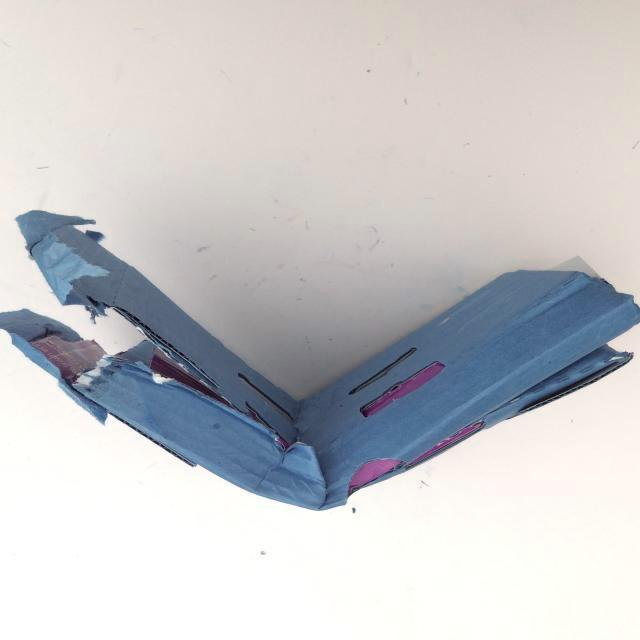cardboard: (0, 166, 640, 511)
